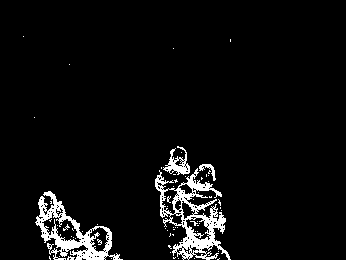person: (186, 160, 233, 233), (155, 143, 188, 233)
